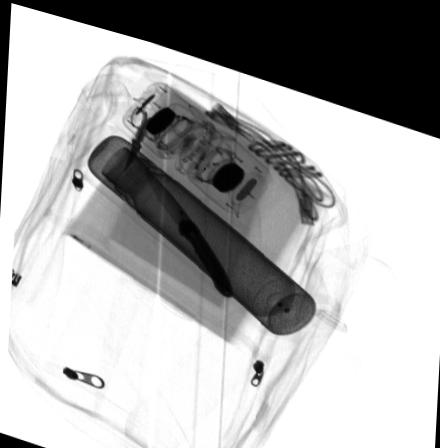Knife: (143, 161, 232, 285)
Scissors: (122, 100, 160, 162)
